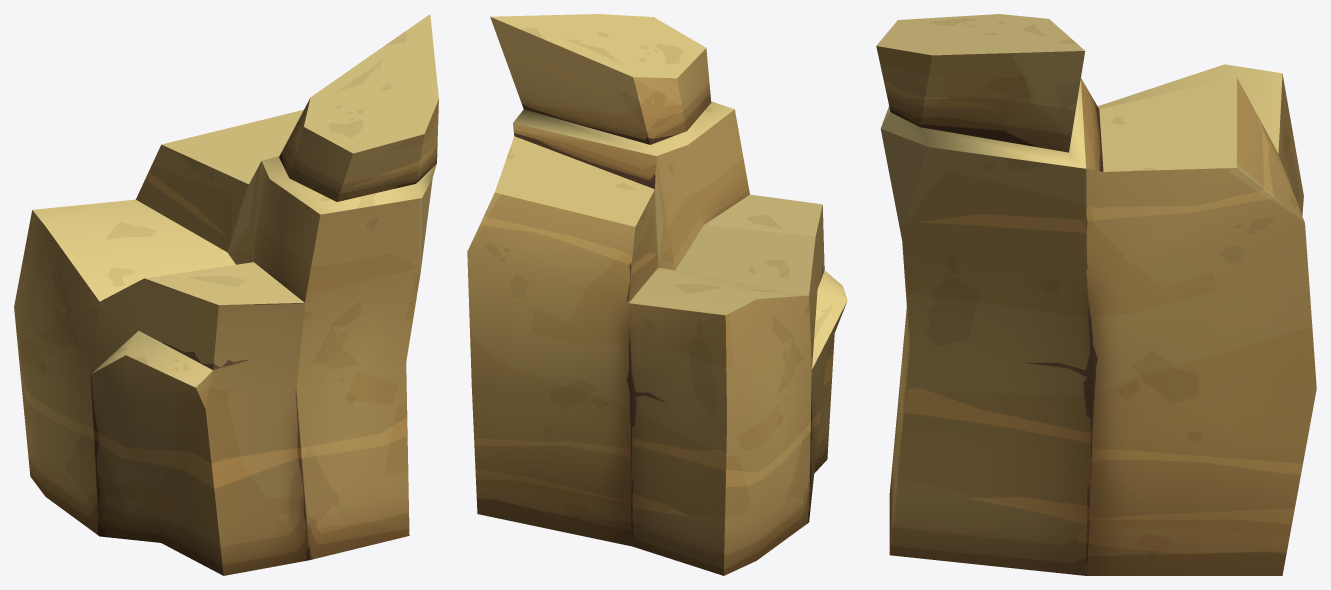
File: F_W_O_rock_002.fbx
3 views of the same model, side by side, from view 1: azimuth 30°, elevation 25°; view 2: azimuth 150°, elevation 25°; view 3: azimuth 270°, elevation 25° (orthographic). The views are drawn at different scales.
Visible parts, largest first — view 1: F_W_O_rock_002; view 2: F_W_O_rock_002; view 3: F_W_O_rock_002.
Part boxes in pixels (x1,y1,x2,y2): F_W_O_rock_002: (14,14,438,575); F_W_O_rock_002: (467,14,847,575); F_W_O_rock_002: (876,14,1316,575).
Size of the model in its own units: 12 by 14.58 by 10.3.
